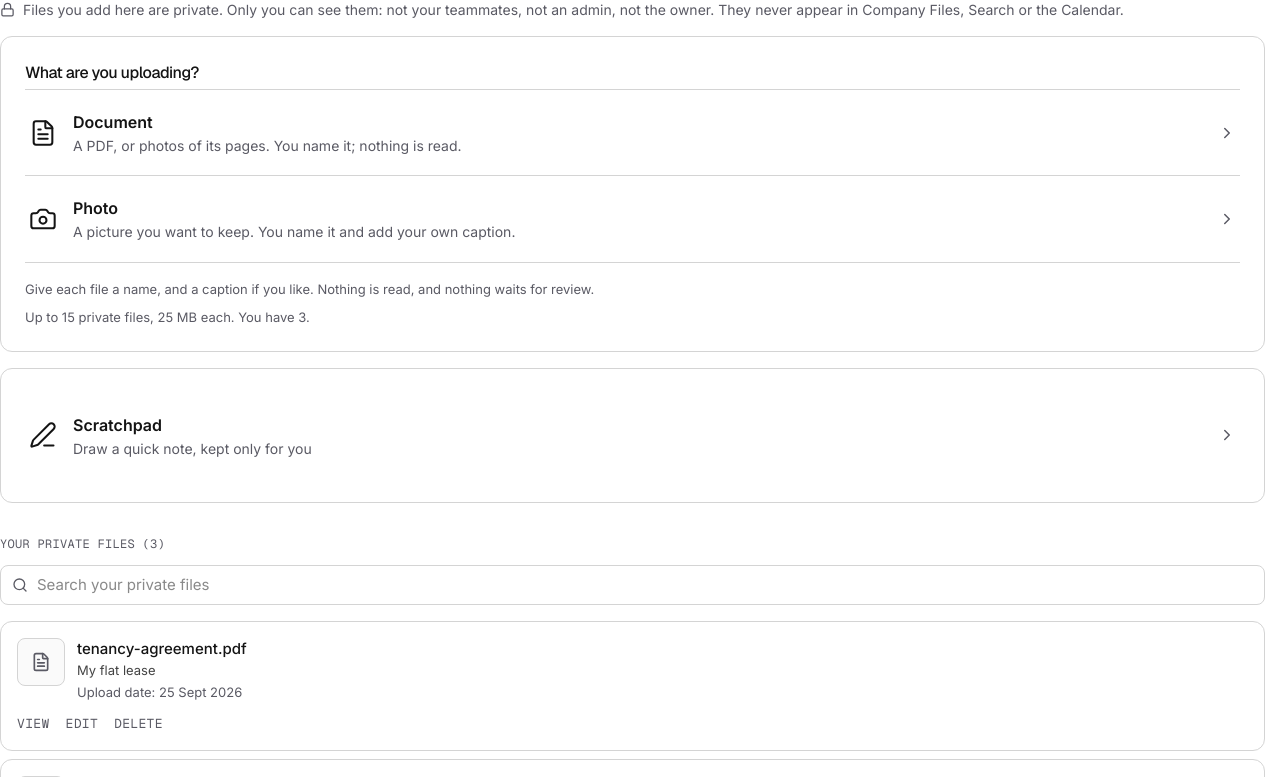
Scenario: Only me: the files › Delete asks for the file's name, deletes FOR GOOD once it is typed, and reloads the list and the count
This screenshot has width=1280, height=777.
Expected: the text "My flat lease" is shown, [77,662,156,678]
Step 1. Click the button "Delete" → [138, 724], box [114,714,163,734]
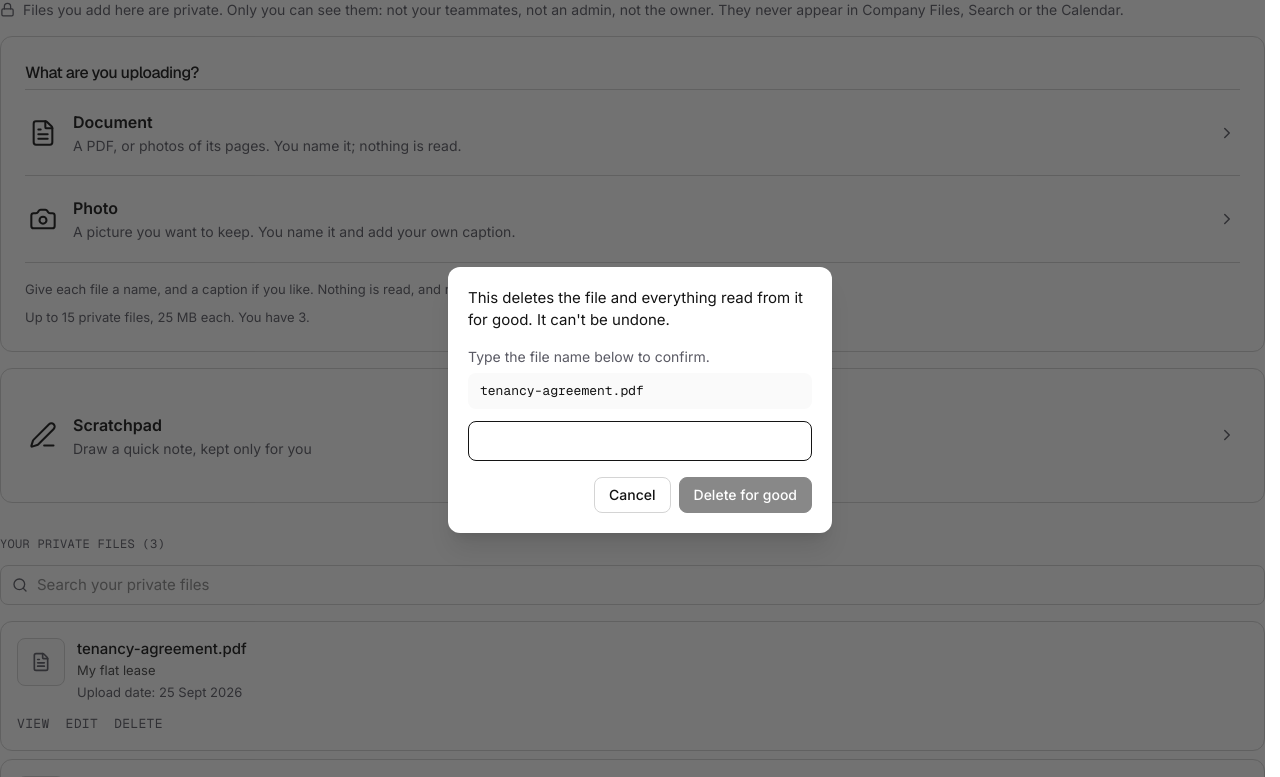
Now the text "can't be undone" is shown, box [468,288,803,329]
Now the text with test id "typed-confirm-expected" reads "tenancy-agreement.pdf", box [480,382,644,399]
Now the button "Delete for good" is disabled, box [678,477,812,513]
Step 2. Type "tenancy-agreement.pdf" into the field named "File name" → [640, 441], box [468,421,812,461]
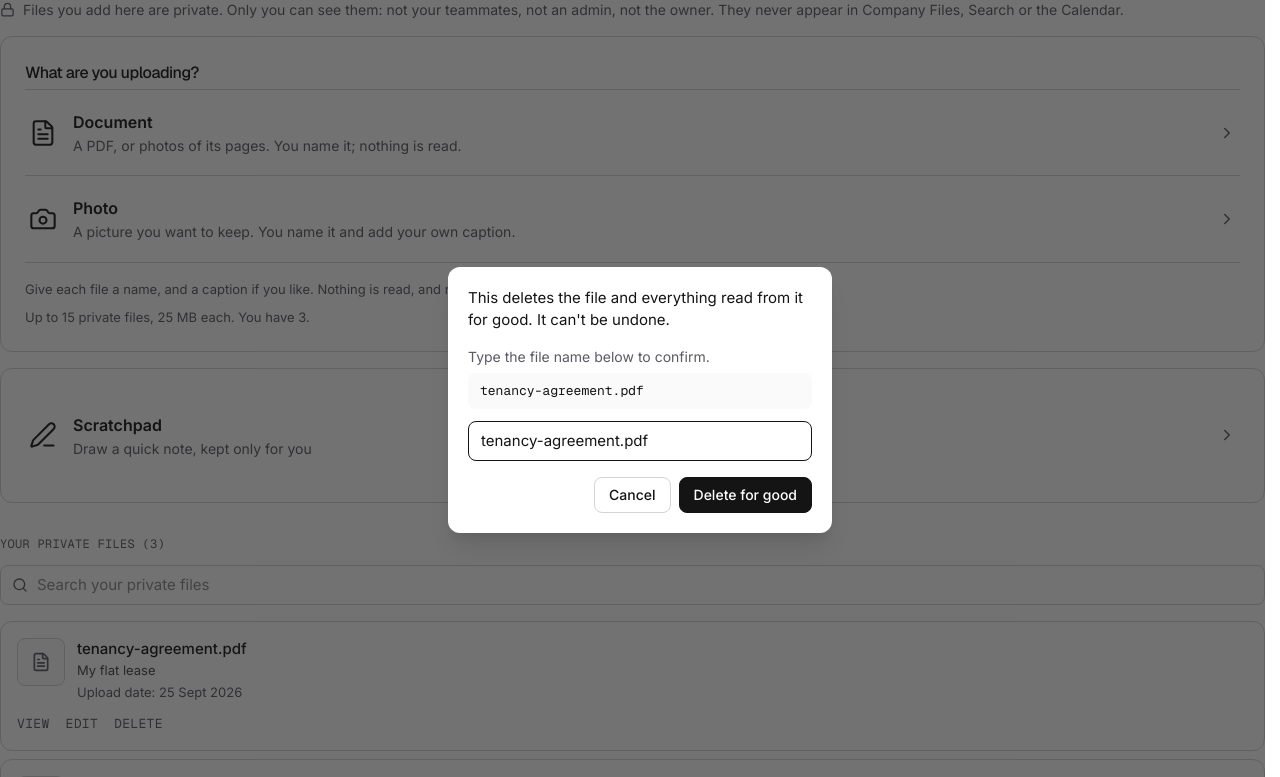
Now the button "Delete for good" is enabled
Step 3. Click the button "Delete for good" → [745, 495], box [678,477,812,513]
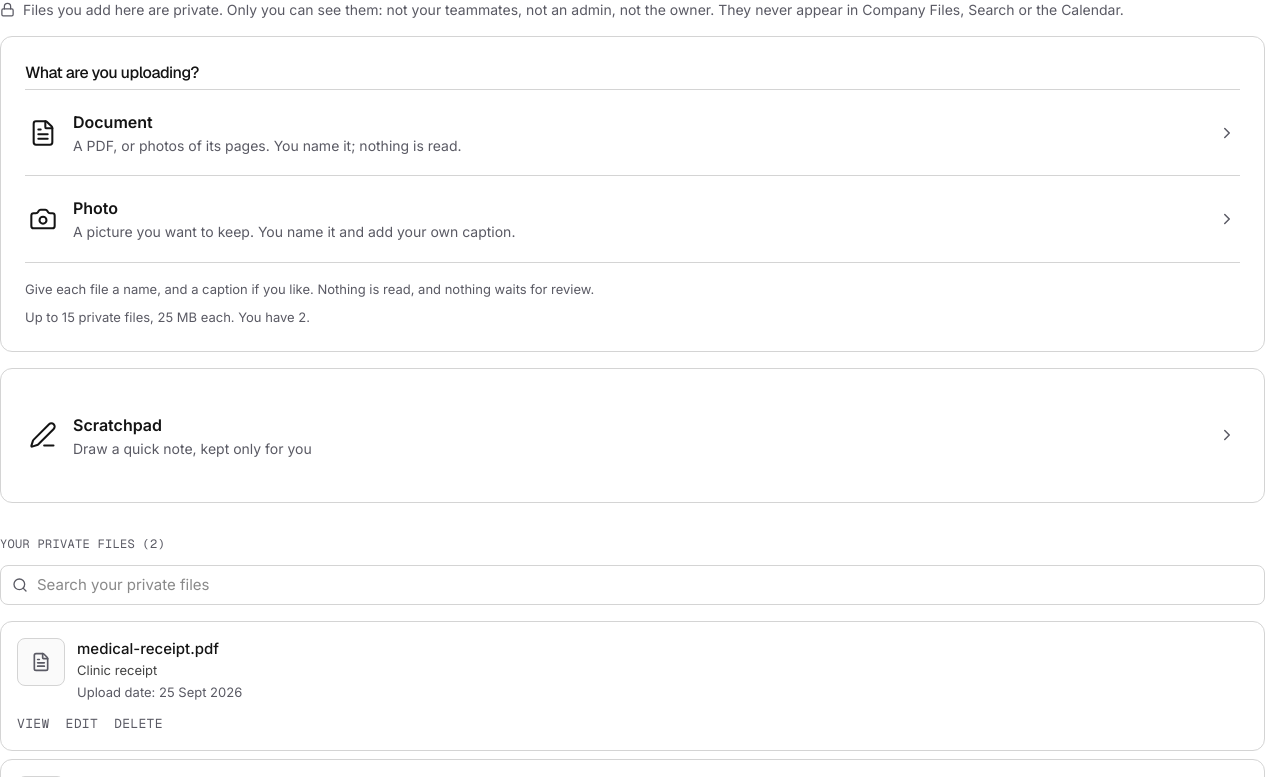
Now the text "My flat lease" is gone
Now the heading "Your private files (2)" is shown, box [0,536,165,552]
Now the message with test id "only-me-limits-note" shows "You have 2", box [25,308,310,324]
